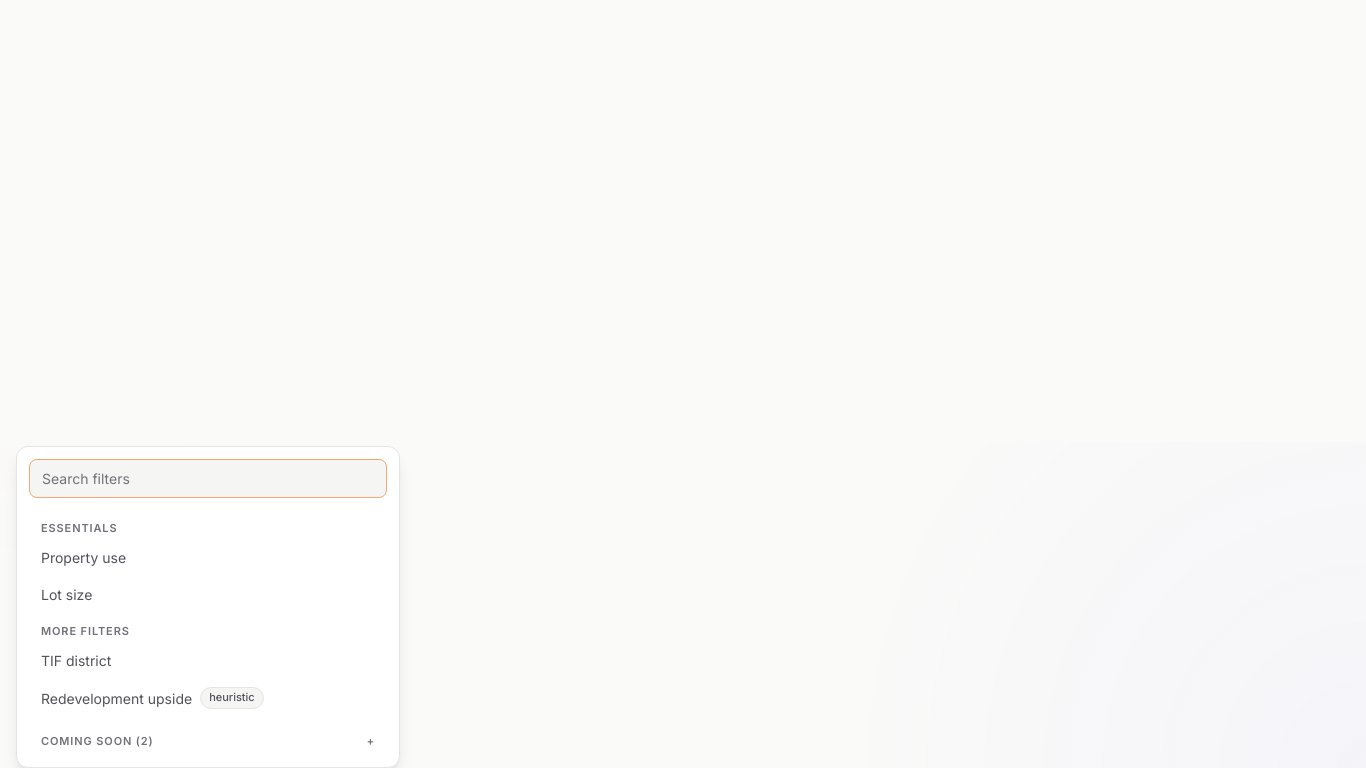
Test: AddFilterMenu: the menu view › keeps filters with no data in a collapsed 'Coming soon' row, and says why they do nothing
(page scrolled)
Expected: the text "Floodplain" is not shown
Click the button "Coming soon (2) +". click: (97, 741)
box: [29,729,387,754]
(page scrolled)
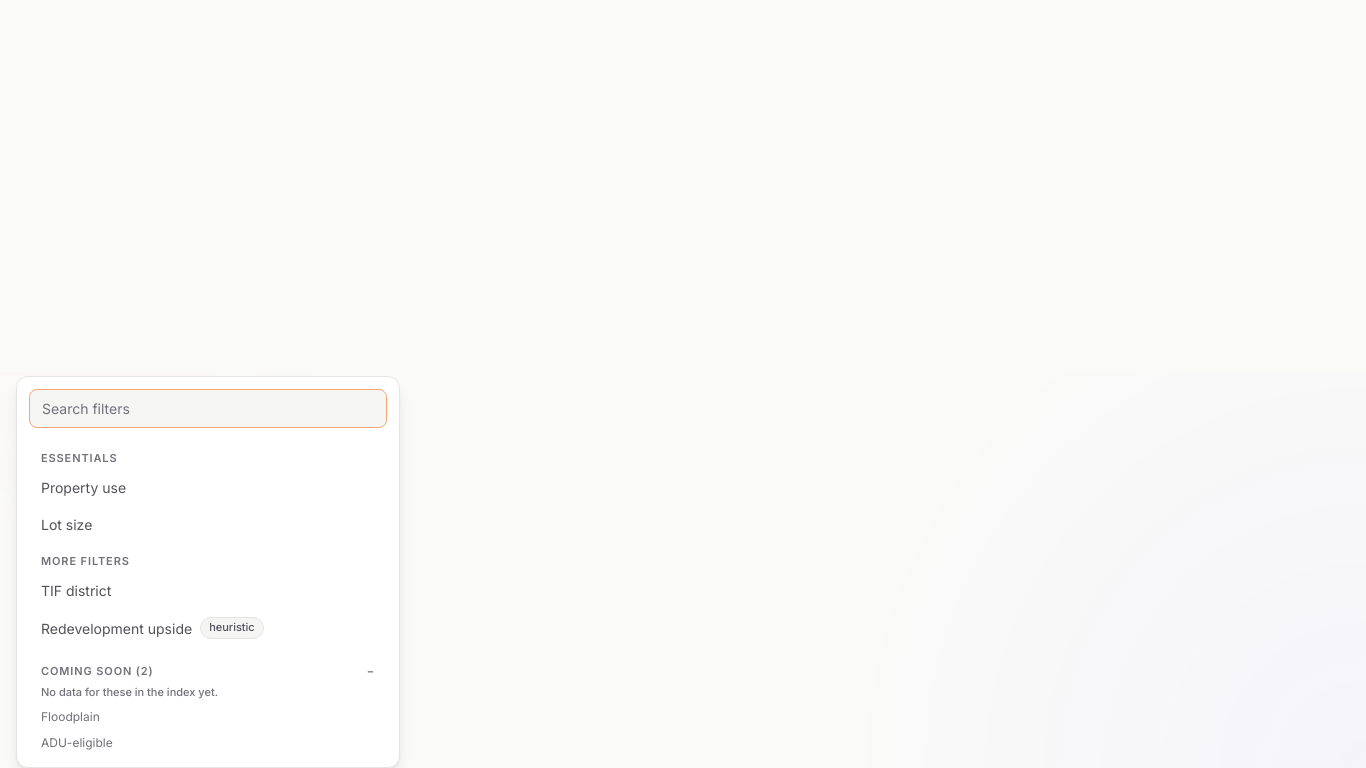
Expected: the list item "Floodplain" is shown, [41,709,100,724]
Expected: the list item "ADU-eligible" is shown, [41,735,113,750]
Expected: the text "No data for these in the index yet." is shown, [41,684,218,698]
